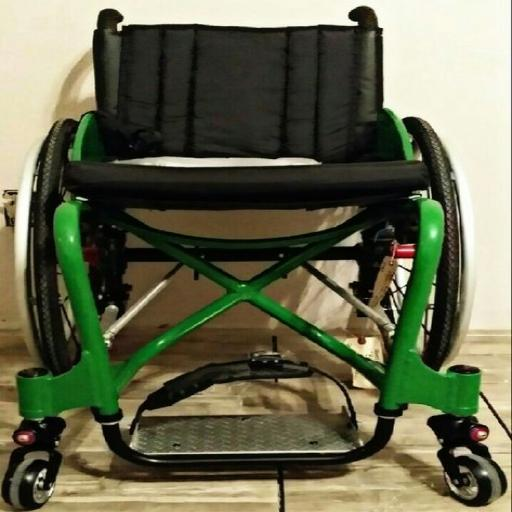road: (1, 0, 512, 512)
